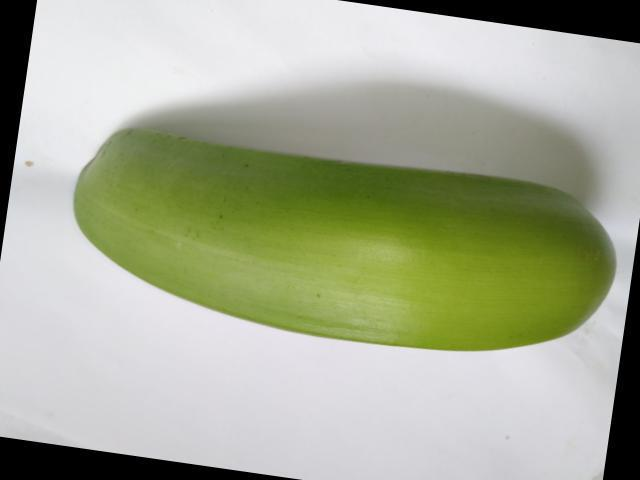freshunripe: (59, 108, 632, 374)
